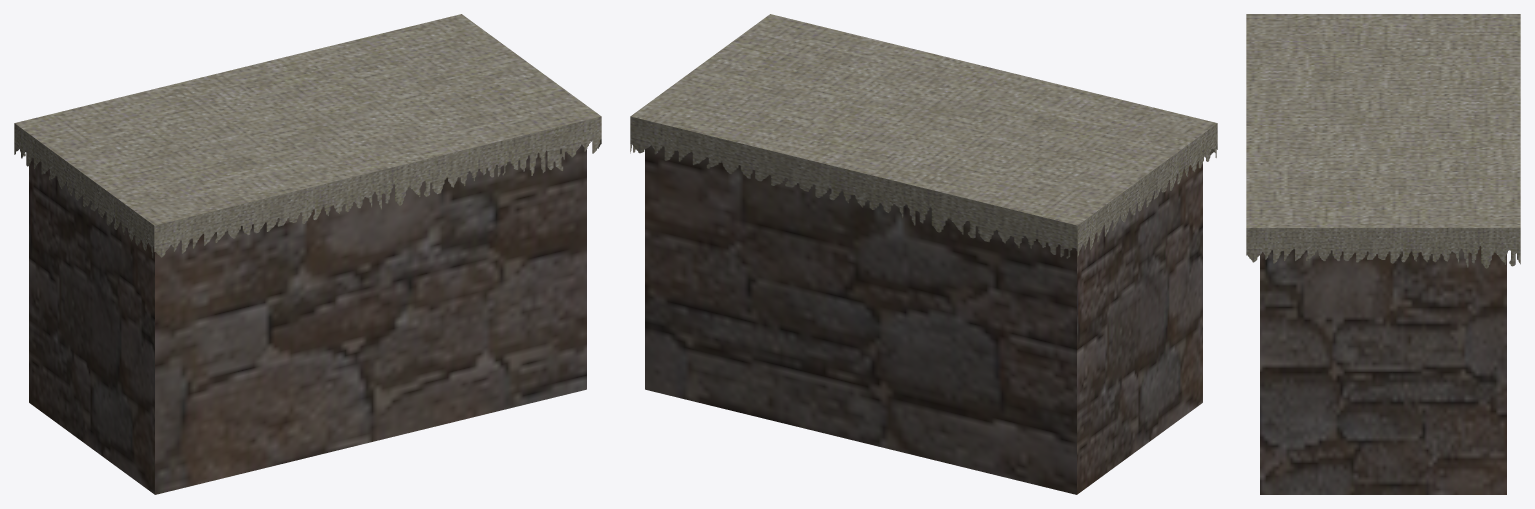
File: Alter.fbx
3 renders of one model, left to right at view 1: azimuth 30°, elevation 25°; view 2: azimuth 150°, elevation 25°; view 3: azimuth 270°, elevation 25°, orthographic. The views are drawn at different scales.
Parts seen in each view (by area): view 1: AlterBase, AlterCloth; view 2: AlterBase, AlterCloth; view 3: AlterCloth, AlterBase.
Part boxes in pixels (x1,y1,x2,y2): AlterBase: (29,144,586,494); AlterCloth: (14,14,601,258); AlterBase: (645,145,1202,494); AlterCloth: (630,14,1217,258); AlterCloth: (1246,14,1520,268); AlterBase: (1260,246,1506,494).
Bounding box in the file's own units: 638 × 377 × 346.
